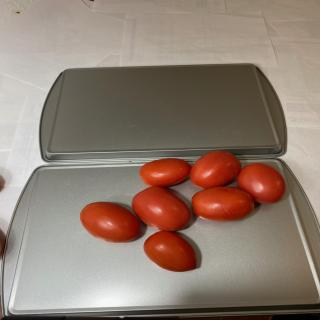Chilli: (79, 150, 287, 272)
Tomato: (131, 186, 191, 232), (80, 201, 140, 243), (192, 186, 254, 222), (143, 231, 197, 272), (236, 162, 286, 204), (190, 150, 241, 189), (139, 158, 191, 187)
